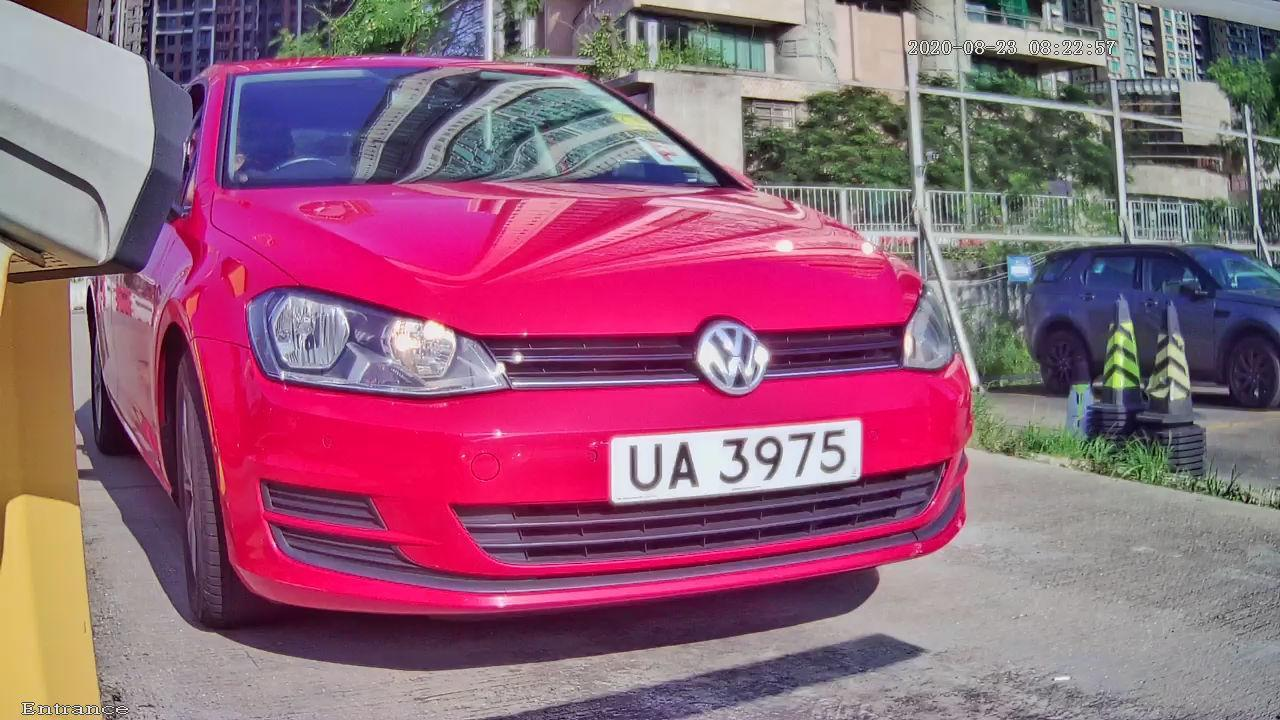Car: (23, 23, 1098, 688)
License Plate: (595, 409, 881, 521)
